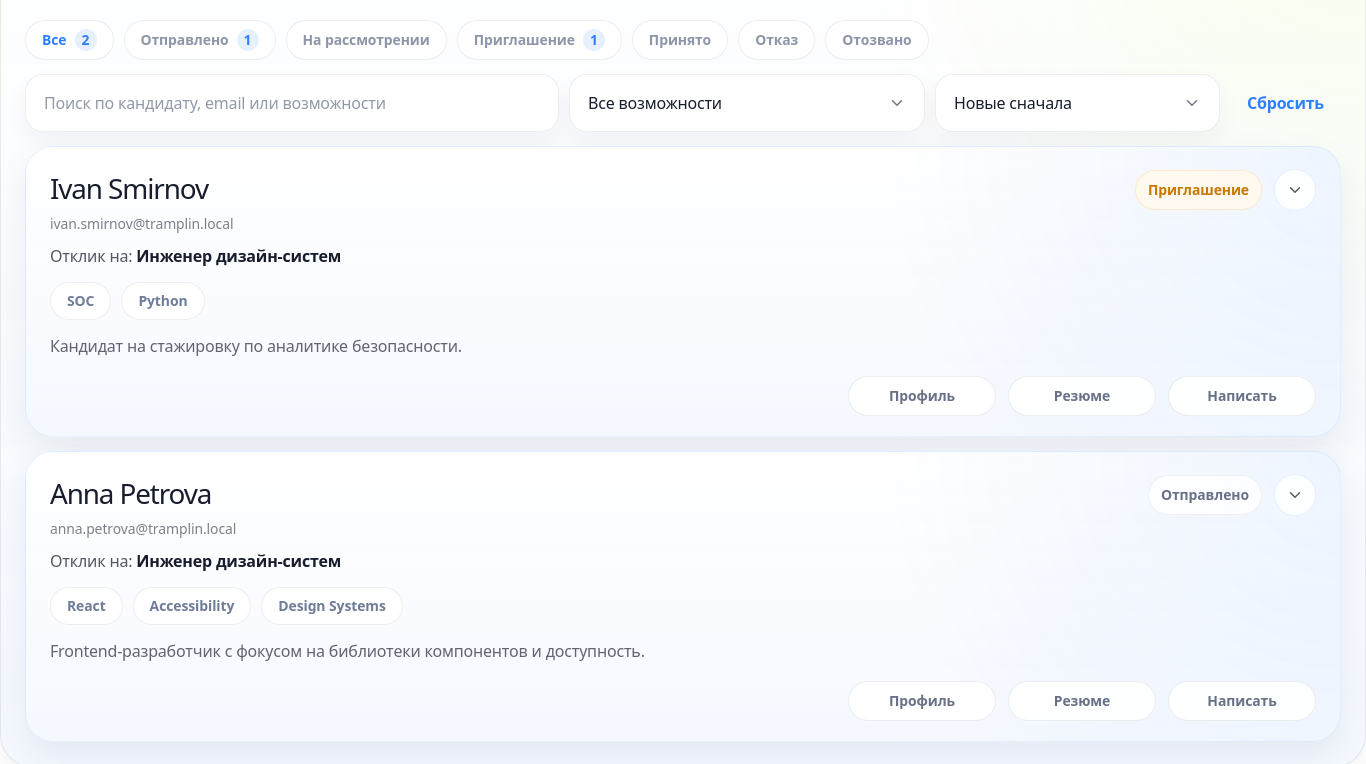
CompanyResponsesSection › renders one responses list with filters and hides the summary block
(page scrolled)
Expected: the text "Статус отклика" is not shown
Expected: the button "Все 2" is shown, left=25, top=20, right=114, bottom=60
Step 1. Click the button that starts with "Anna Petrova" → (683,568), box left=50, top=474, right=1316, bottom=663
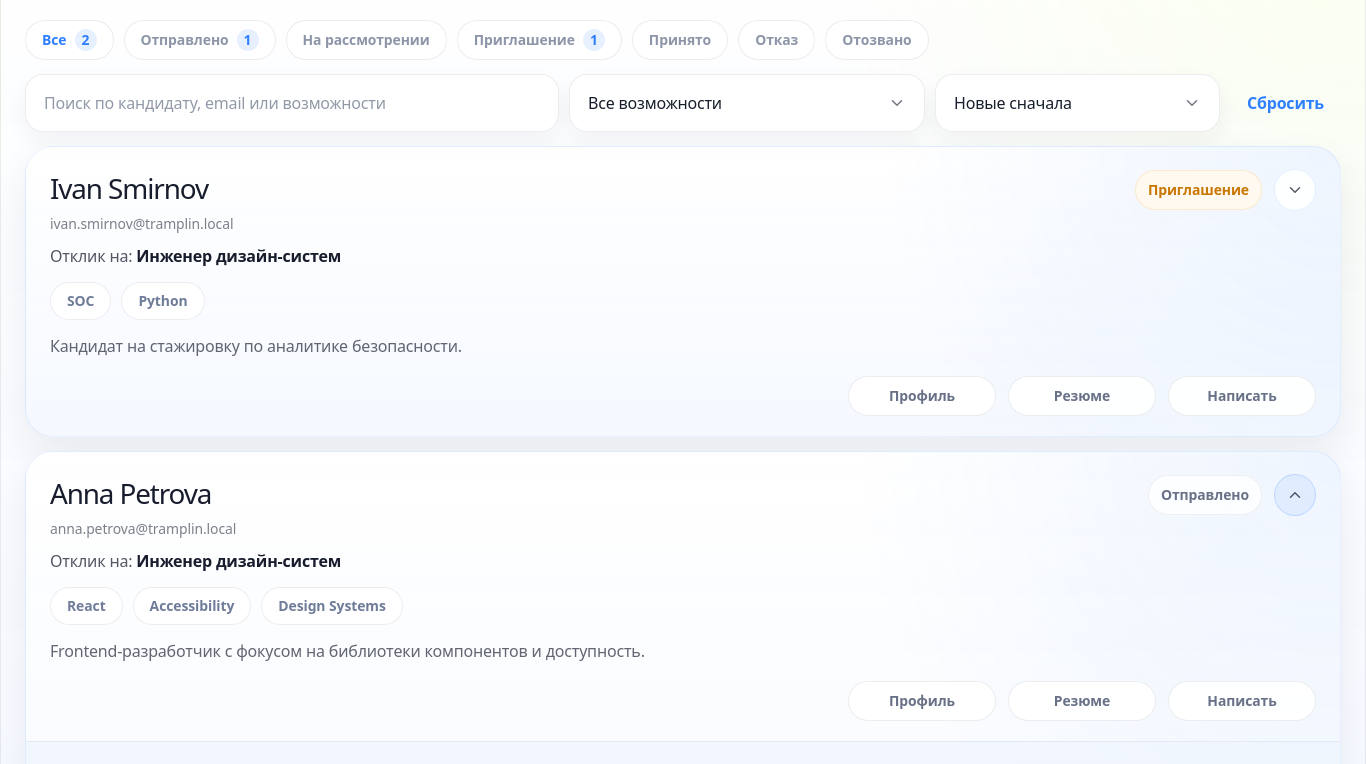
Now the button that starts with "Anna Petrova" is expanded, box left=50, top=474, right=1316, bottom=663
Step 2. Click the button "Приглашение 1" → (539,40), box left=457, top=20, right=622, bottom=60
(page scrolled)
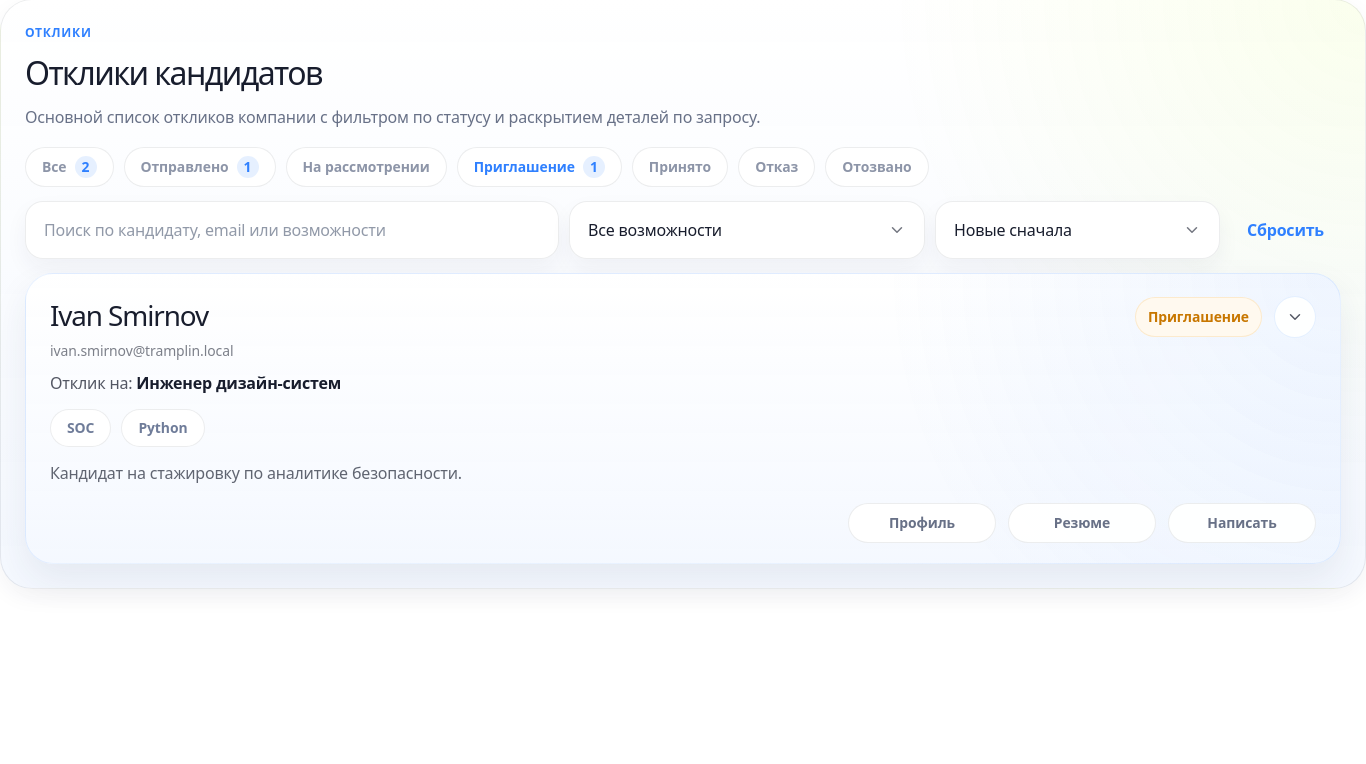
Expected: the heading "Ivan Smirnov" is shown, left=50, top=296, right=208, bottom=334
Now the button "Anna Petrova" is gone
